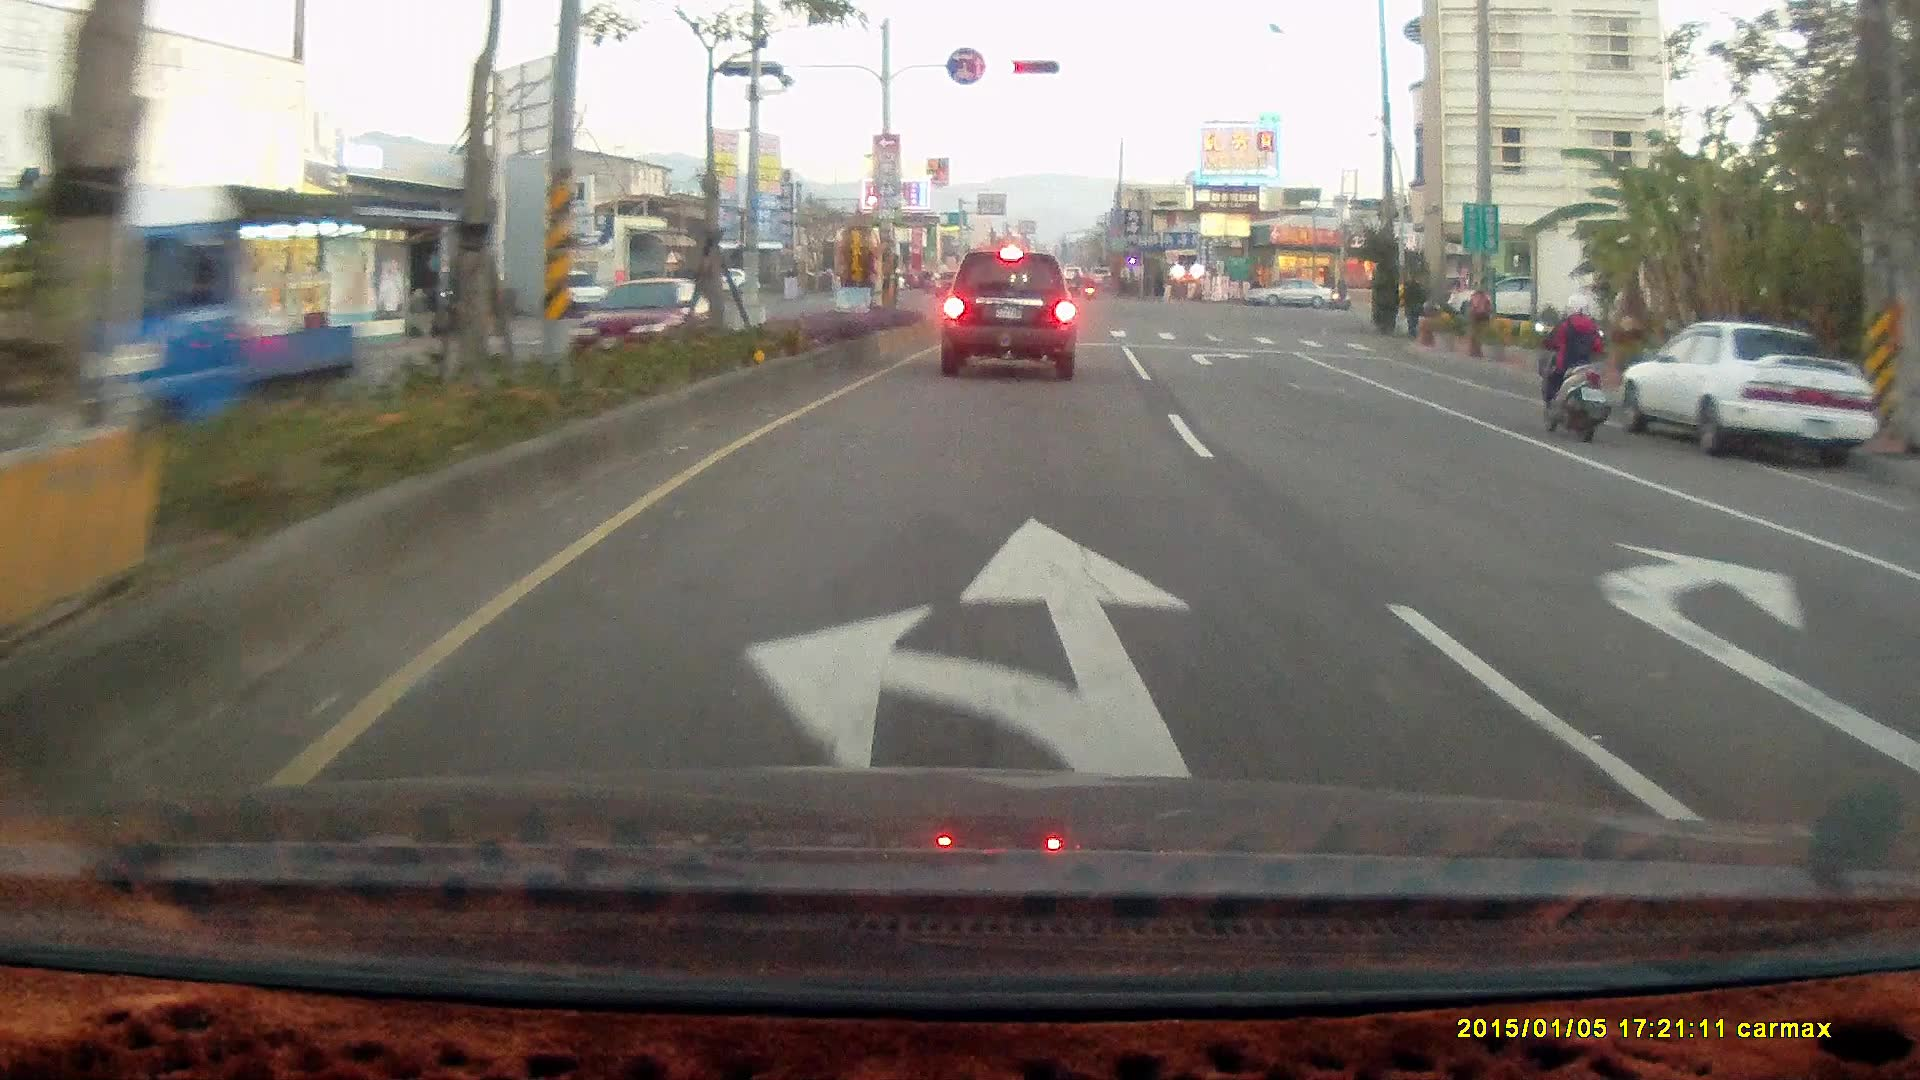rider: (1532, 291, 1614, 442), (1325, 272, 1351, 311)
vehicle: (17, 155, 357, 472), (1610, 317, 1880, 469), (1613, 325, 1887, 470), (938, 250, 1078, 382), (1896, 493, 1920, 836), (1883, 528, 1920, 690), (1447, 273, 1562, 324), (1241, 278, 1337, 312), (1243, 275, 1334, 309)
